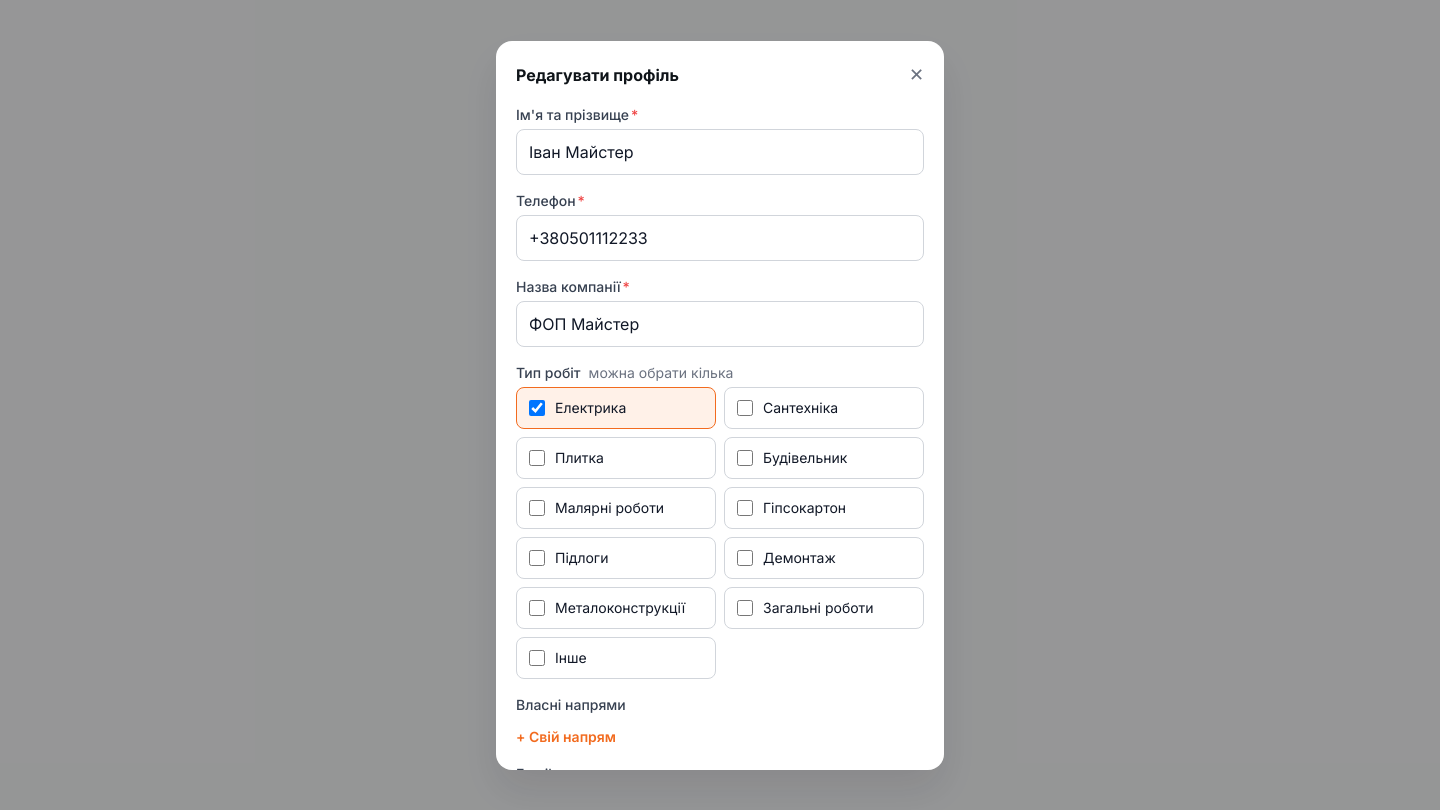
Test: ProfileEditModal — add-trade starter-set prompt › shows the "add starter set?" prompt after adding a trade and saving
The width and height of the screenshot is (1440, 810).
Add PLUMBING ("Сантехніка") and save.
Click the checkbox labelled "Сантехніка" at point(745, 408), box top-left (737, 400), bottom-right (753, 416)
(page scrolled)
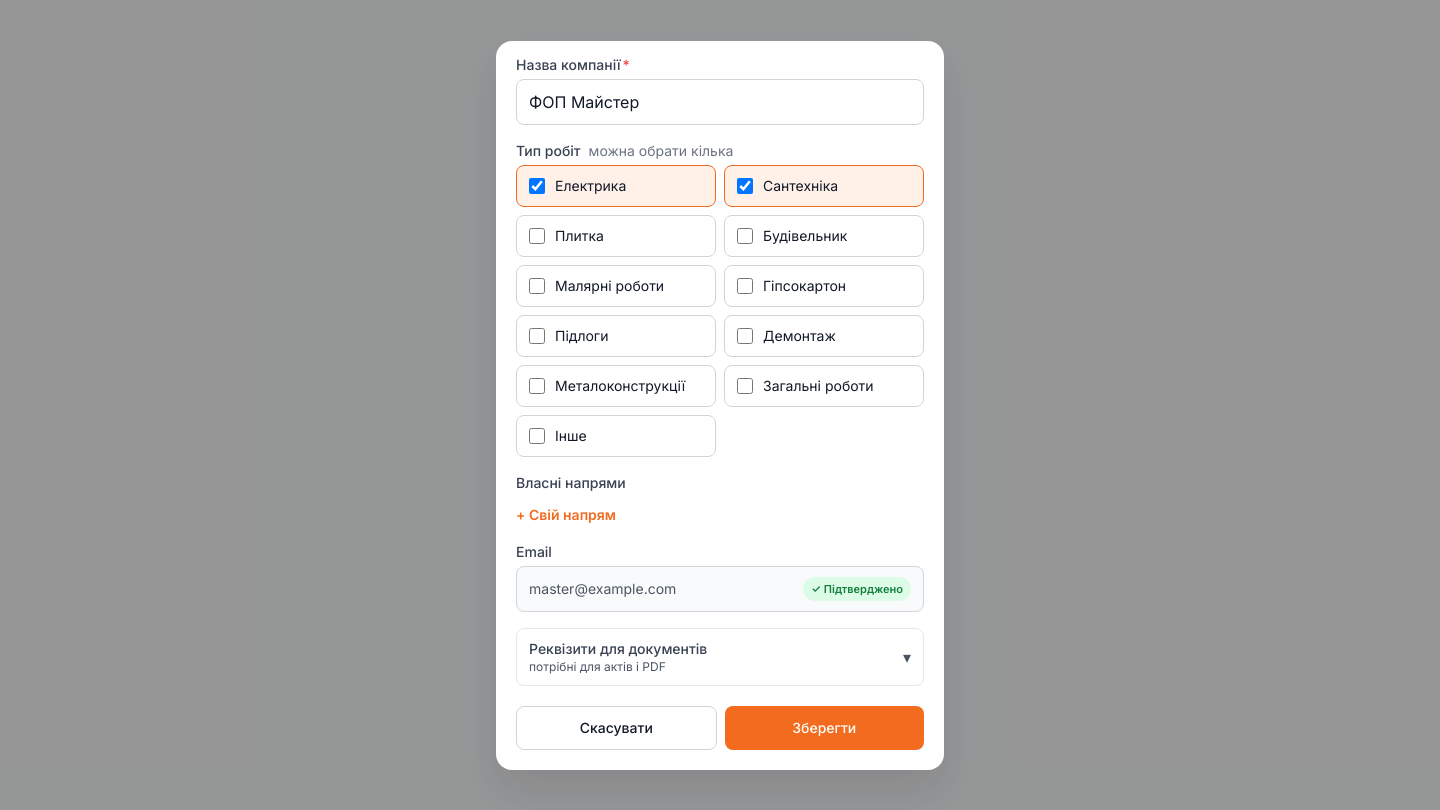
Click the button "Зберегти" at point(824, 728), box top-left (724, 706), bottom-right (924, 750)
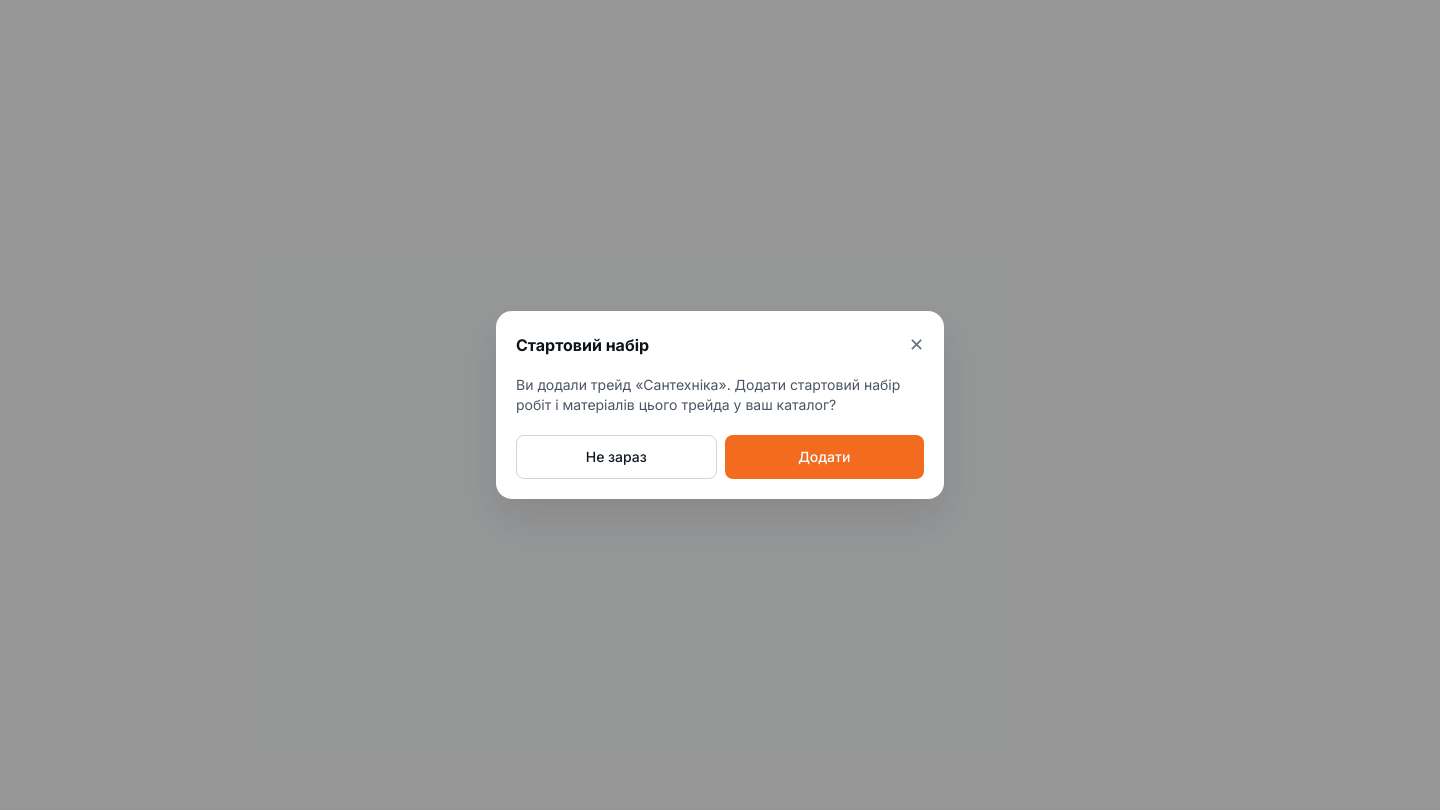
Check: the button "Не зараз" is shown, box top-left (516, 435), bottom-right (716, 479)
Check: the button "Зберегти" is gone
